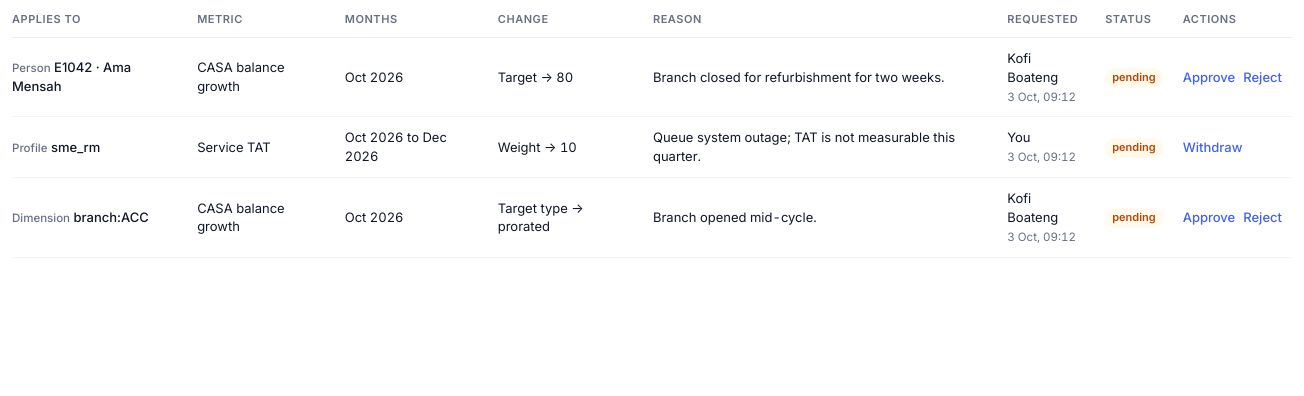
Test: overrides › asks why before a rejection
Click the button "Reject" in the row of "Person" at (1263, 77), box [1243, 69, 1282, 85]
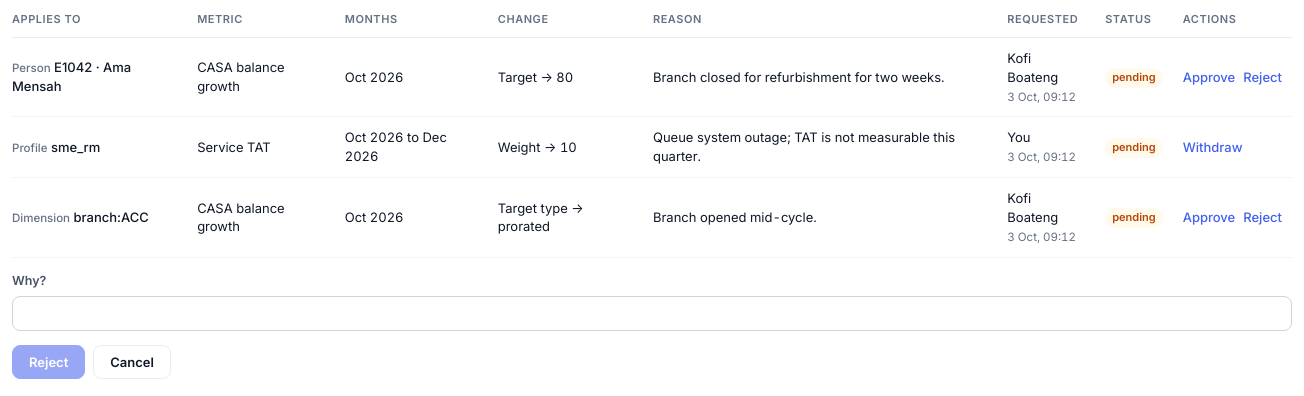
Expected: the button "Reject" below "Why?" is disabled, [12, 345, 85, 379]
